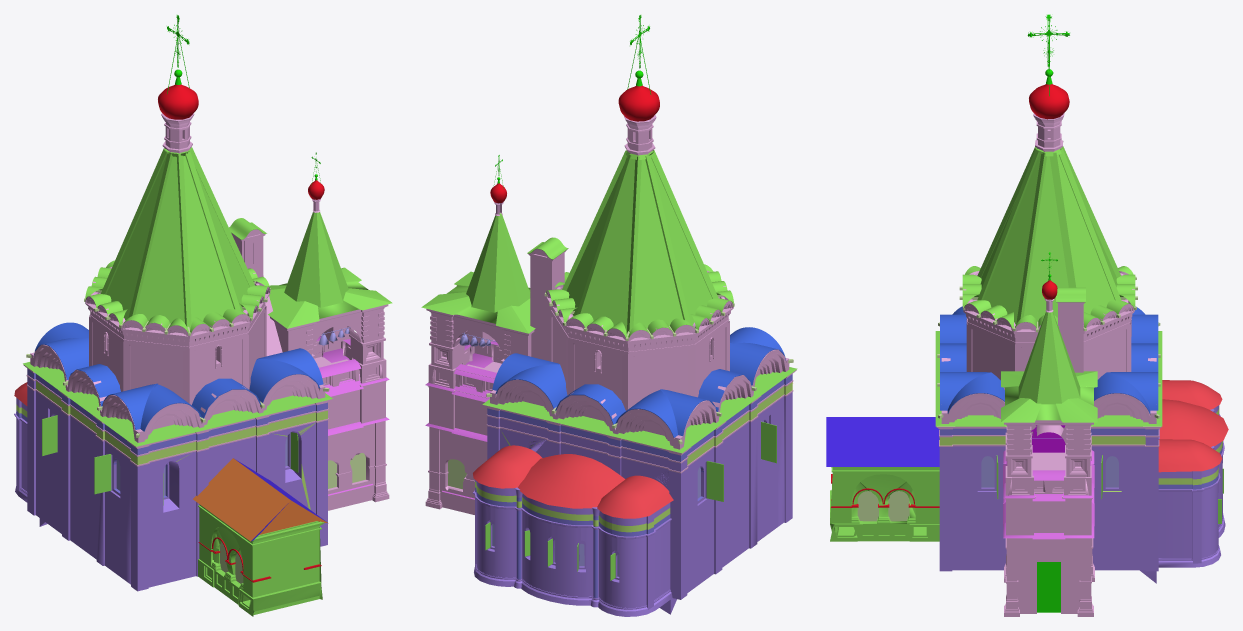
The model's file is church.glb.
The picture shows the model from 3 angles, left to right: view 1: azimuth 30°, elevation 25°; view 2: azimuth 150°, elevation 25°; view 3: azimuth 270°, elevation 25°; orthographic projection.
Parts seen in each view (by area): view 1: church; view 2: church; view 3: church.
Part boxes in pixels (x1,y1,x2,y2): church: (14, 15, 392, 616); church: (421, 15, 797, 616); church: (826, 14, 1228, 616).
Bounding box in the file's own units: 94.44 × 160 × 110.
